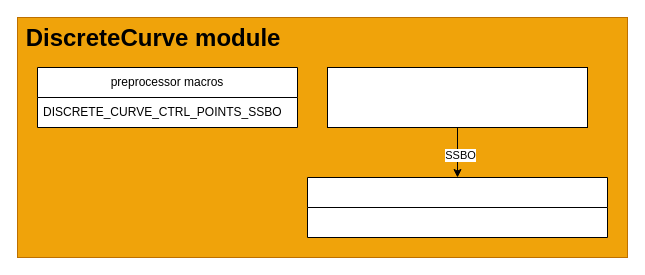
Image size: 645x275. Some labels were removed from this diagram. The shapes that lost their labels are listed below. From the top down, each one's centre as x and y in pixels, then its label:
(x=457, y=97): DiscreteCurveCtrlPoints : vec4
(x=457, y=207): functions
